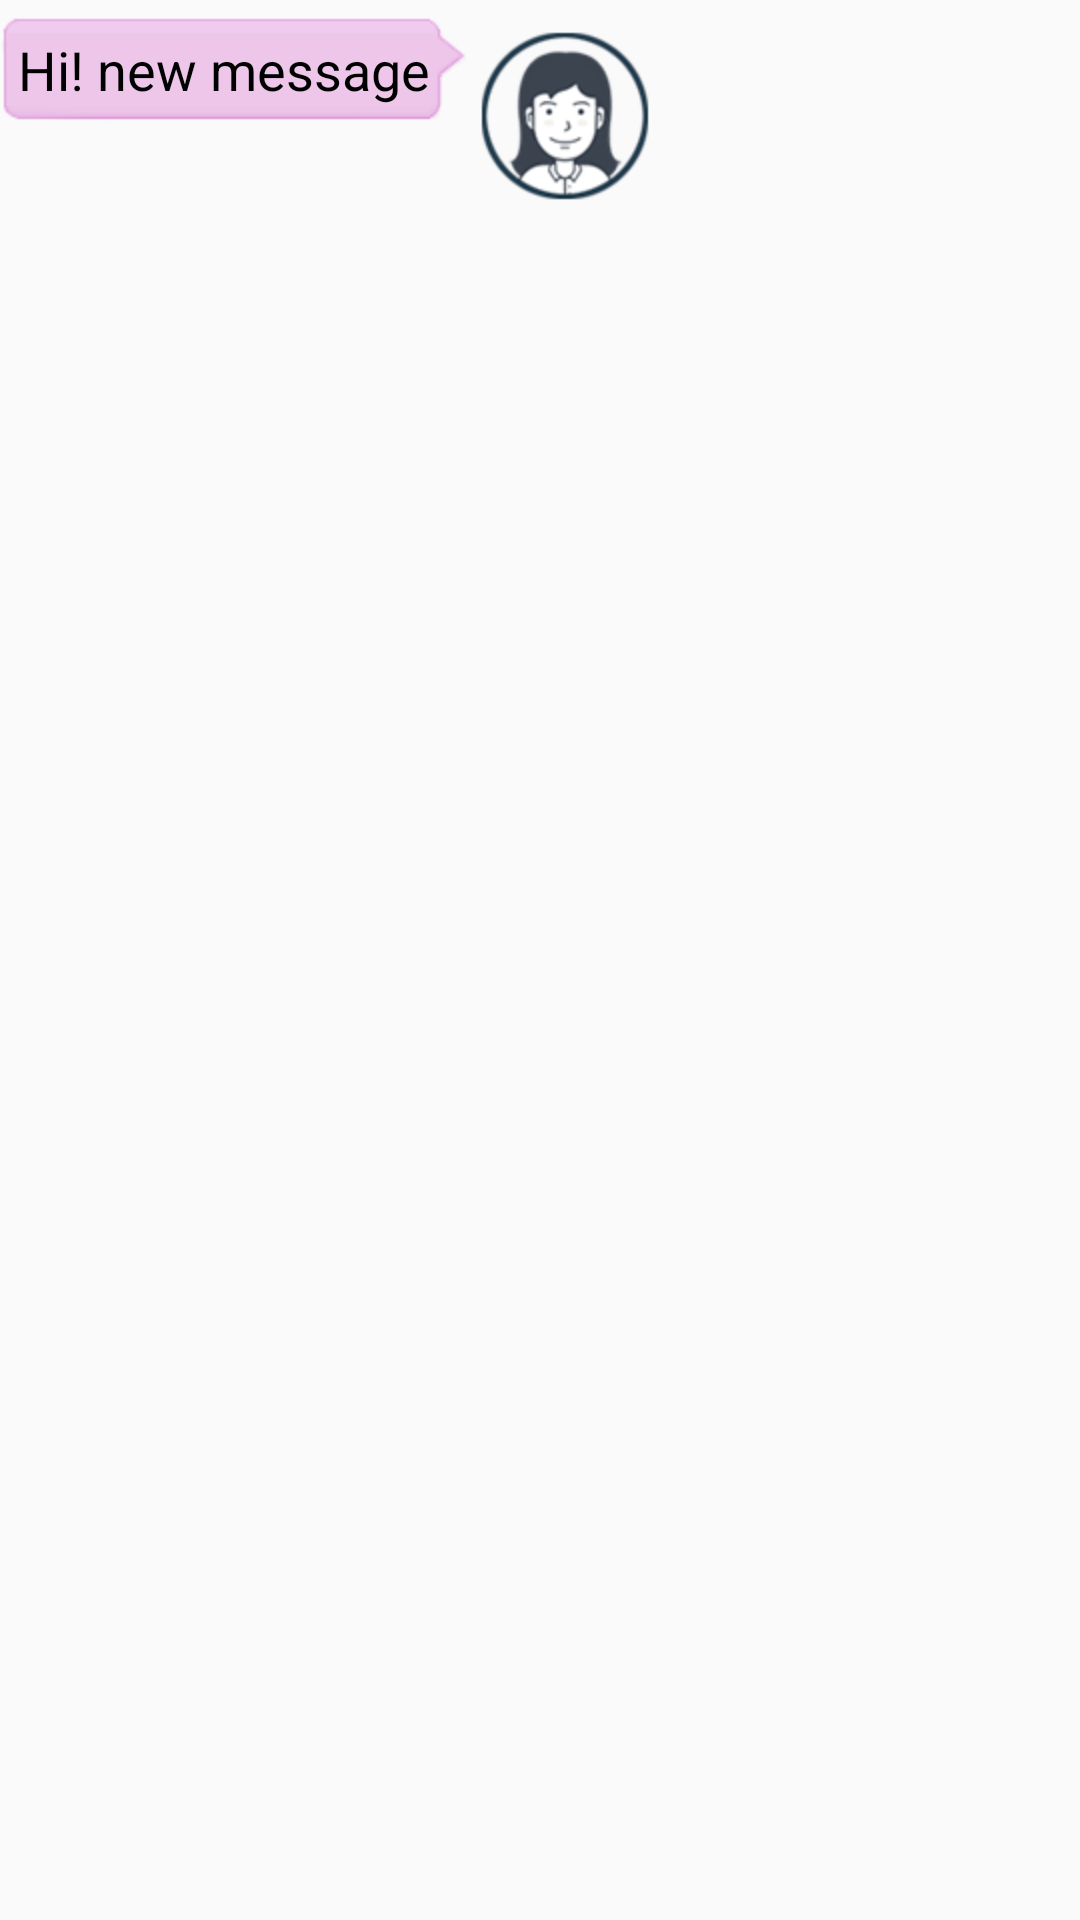

Named icons in this screenshot (1080x1920) and their bounding boxes, bbox(x1, y1, x2, y2):
woman: bbox(481, 32, 649, 200)
